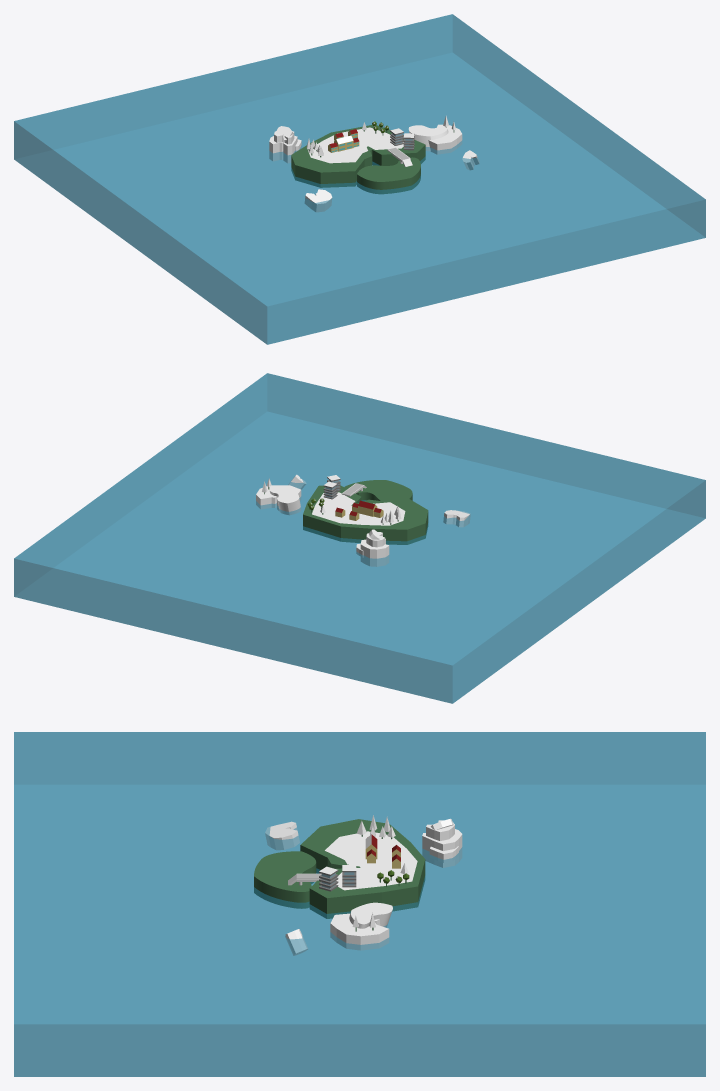
3 renders of one model, top to bottom at view 1: azimuth 30°, elevation 25°; view 2: azimuth 150°, elevation 25°; view 3: azimuth 270°, elevation 25°, orthographic. The views are drawn at different scales.
Parts seen in each view (by area): view 1: water, island, island.2, Cap_2, smallisland; view 2: water, island, island.2, Cap_2, ice3; view 3: water, island, island.2, Cap_2 (×3), smallisland, Extrude, ice3.
Boxes of the visible parts, bbox=[...] form: water: bbox=[14, 14, 705, 344]; island: bbox=[291, 125, 425, 187]; island.2: bbox=[291, 127, 425, 187]; Cap_2: bbox=[357, 157, 420, 181]; smallisland: bbox=[357, 167, 420, 194]; water: bbox=[14, 373, 705, 703]; island: bbox=[303, 485, 428, 544]; island.2: bbox=[303, 492, 428, 543]; Cap_2: bbox=[344, 480, 412, 500]; ice3: bbox=[360, 539, 389, 566]; water: bbox=[14, 732, 705, 1076]; island: bbox=[300, 819, 425, 918]; island.2: bbox=[300, 831, 425, 918]; Cap_2 (×3): bbox=[254, 851, 392, 936]; smallisland: bbox=[254, 862, 316, 908]; Extrude: bbox=[330, 919, 389, 950]; ice3: bbox=[422, 835, 462, 867].
Bounding box in the file's own units: 3000 × 417 × 3001.
